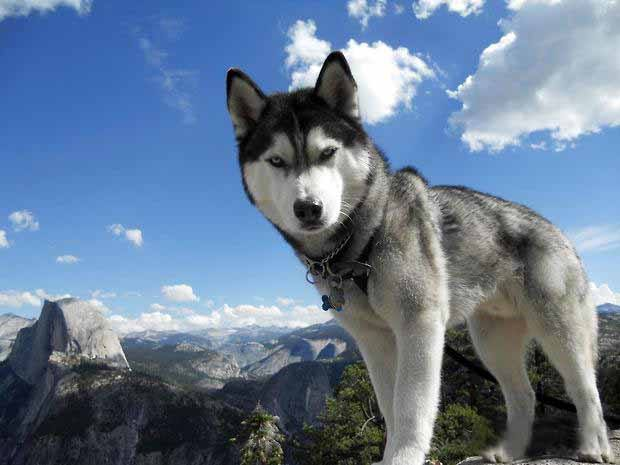dog: (225, 52, 611, 465)
